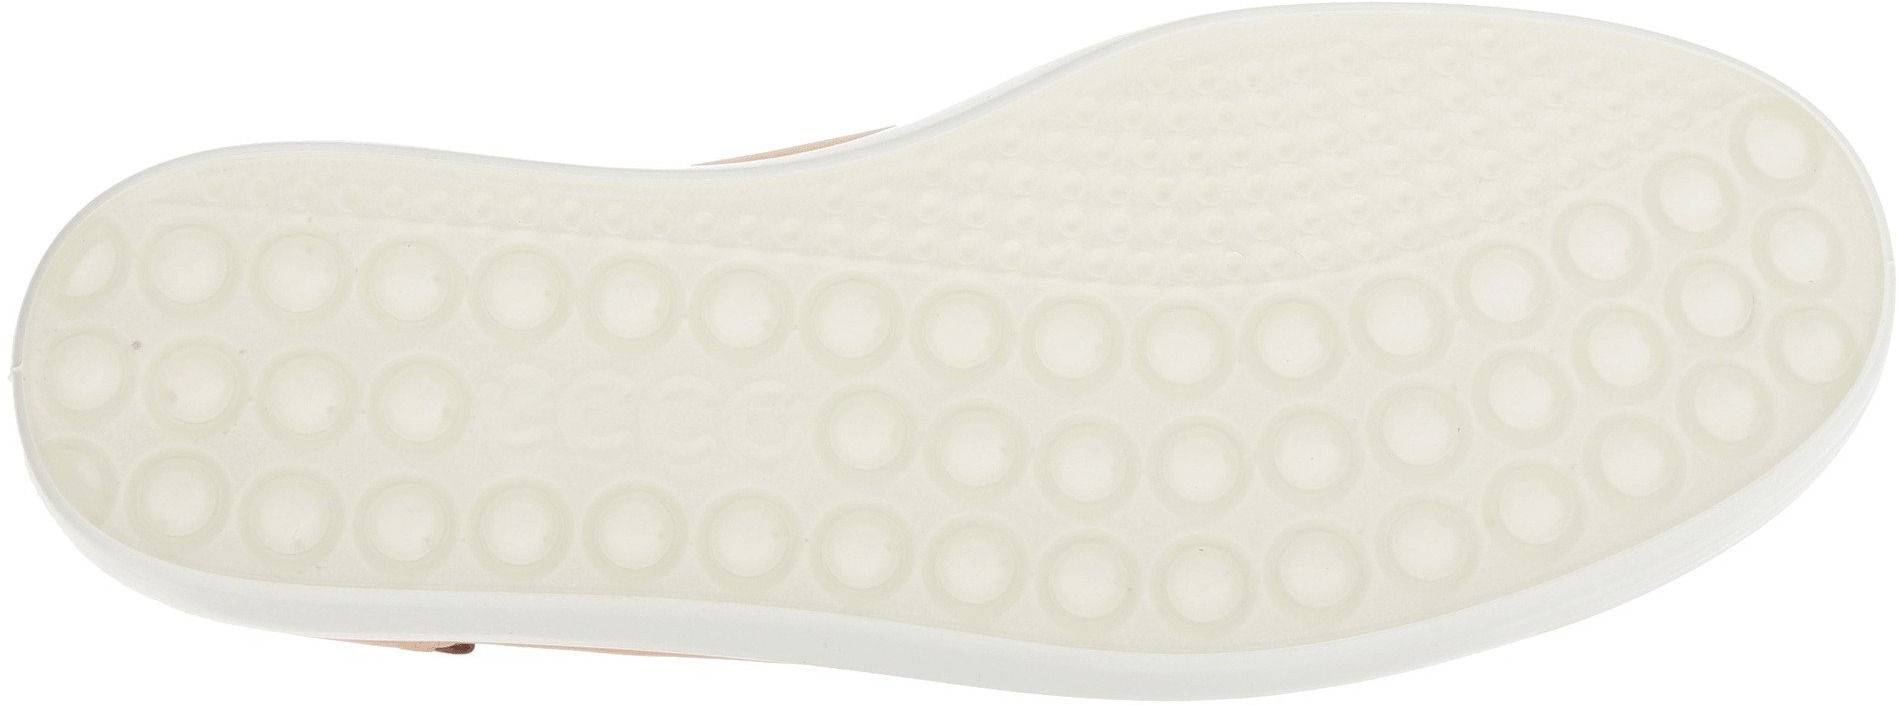circle: (827, 282, 1171, 601), (82, 233, 449, 529), (1183, 300, 1471, 607), (1474, 235, 1712, 500), (479, 180, 675, 352)
other: (1197, 67, 1450, 253), (997, 127, 1187, 277), (1454, 47, 1609, 179)
text: (479, 357, 809, 485)
